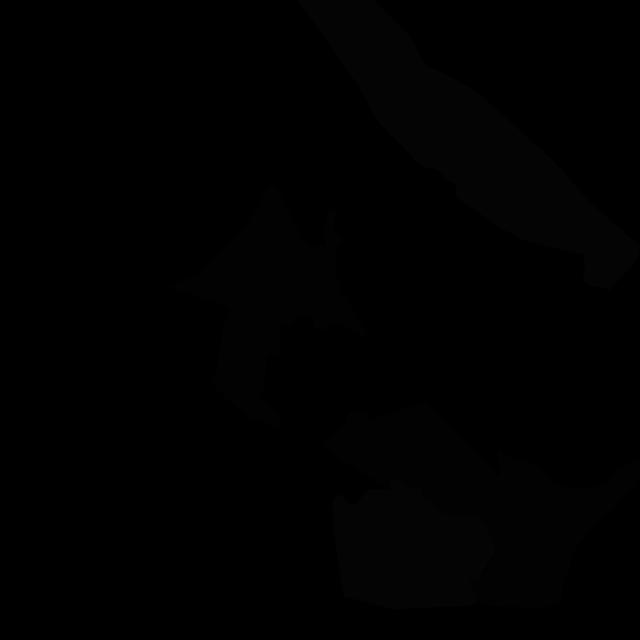cardboard: (322, 401, 640, 608), (168, 186, 369, 429)
soft_plastic: (298, 0, 640, 291), (332, 479, 496, 609)
